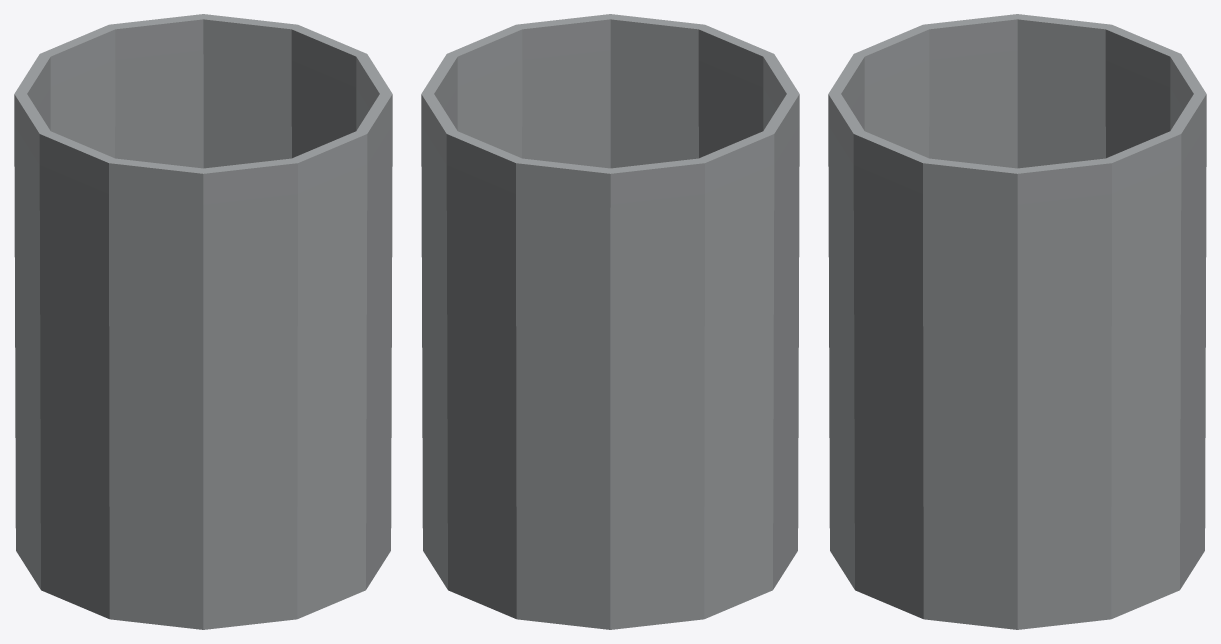
The model's file is SM_garbagecan_metal_open.fbx.
3 views of the same model, side by side, from view 1: azimuth 30°, elevation 25°; view 2: azimuth 150°, elevation 25°; view 3: azimuth 270°, elevation 25° (orthographic).
Visible parts, largest first — view 1: Line027; view 2: Line027; view 3: Line027.
Boxes of the visible parts, x1=… form: Line027: x1=14, y1=14, x2=392, y2=629; Line027: x1=421, y1=14, x2=799, y2=629; Line027: x1=828, y1=14, x2=1206, y2=629.
Size of the model in its own units: 23.76 by 23.76 by 31.66.
